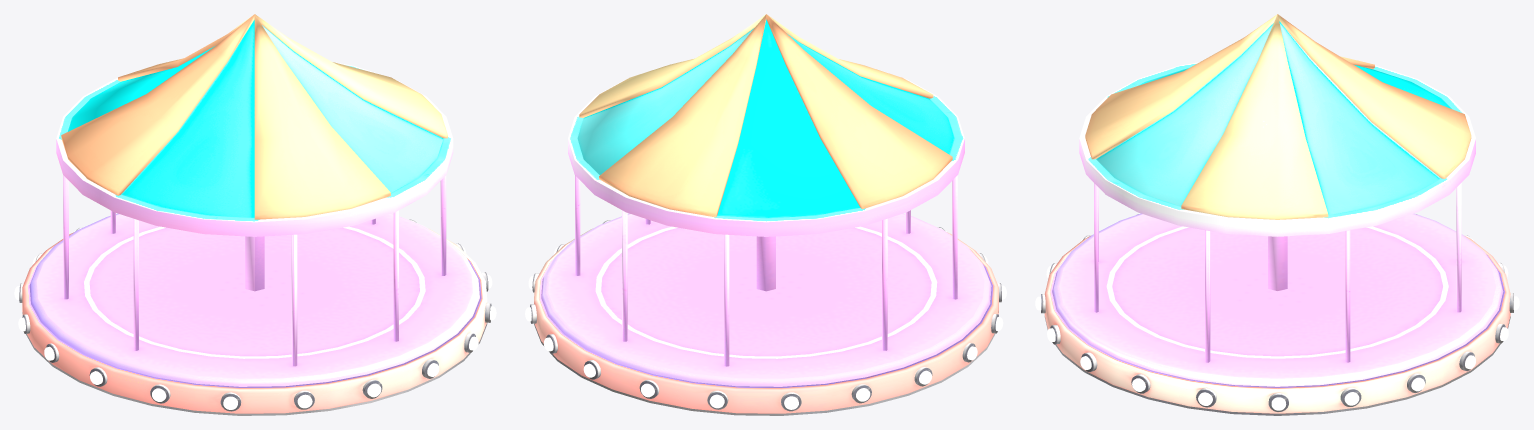
Rendered from carousel.glb.
The picture shows the model from 3 angles, left to right: view 1: azimuth 30°, elevation 25°; view 2: azimuth 150°, elevation 25°; view 3: azimuth 270°, elevation 25°; orthographic projection.
Visible parts, largest first — view 1: Cylinder.006, Circle.008, Circle.009, Cylinder.007, Sphere.006, Sphere.007; view 2: Cylinder.006, Circle.008, Circle.009, Cylinder.007, Sphere.006, Sphere.007; view 3: Cylinder.006, Circle.008, Circle.009, Cylinder.007, Sphere.006, Sphere.007.
Part boxes in pixels (box(x1,y1,x2,y2)): Cylinder.006: box(22, 213, 487, 415); Circle.008: box(61, 14, 447, 219); Circle.009: box(56, 62, 453, 236); Cylinder.007: box(63, 175, 446, 366); Sphere.006: box(19, 219, 491, 411); Sphere.007: box(14, 230, 496, 409); Cylinder.006: box(534, 213, 998, 415); Circle.008: box(577, 14, 954, 218); Circle.009: box(568, 78, 964, 236); Cylinder.007: box(575, 175, 957, 366); Sphere.006: box(530, 220, 1001, 411); Sphere.007: box(525, 230, 1006, 409); Cylinder.006: box(1044, 213, 1510, 415); Circle.008: box(1085, 14, 1471, 219); Circle.009: box(1079, 62, 1475, 236); Cylinder.007: box(1094, 183, 1461, 362); Sphere.006: box(1041, 214, 1513, 411); Sphere.007: box(1035, 237, 1519, 410).
Size of what is drawn, in the model's own units: 12.91 by 10.07 by 12.91.
3 materials, 1 textured.
